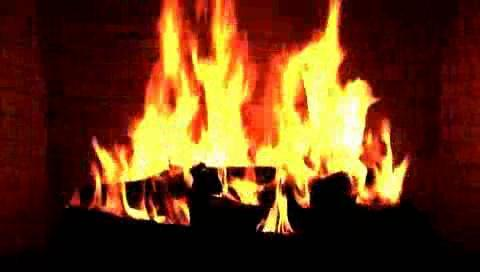fire: (76, 6, 420, 218)
